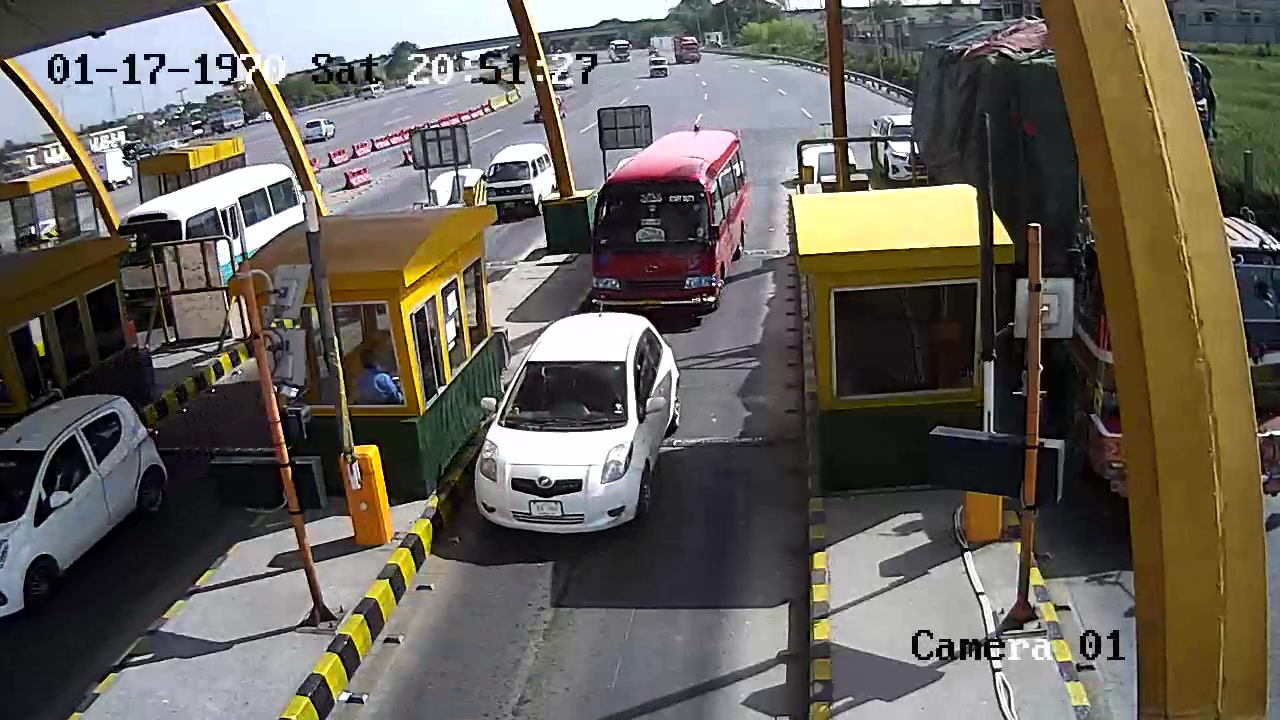F1: (464, 309, 689, 542)
F3: (581, 123, 754, 312)
